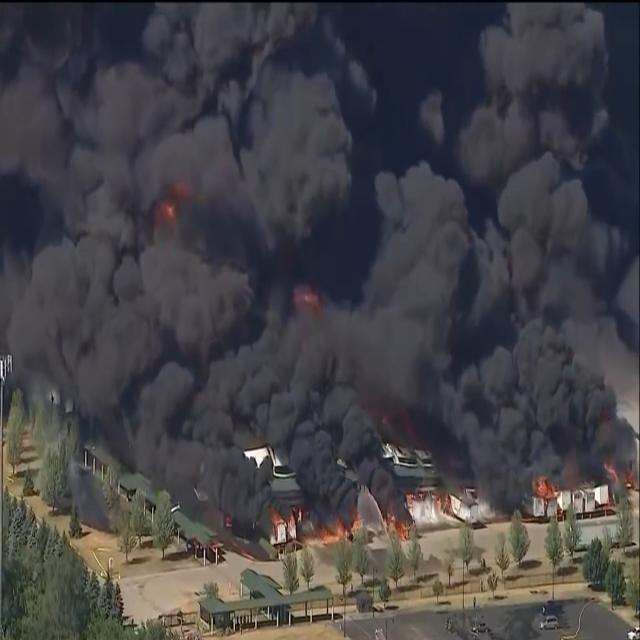Fire: (404, 484, 454, 520), (321, 515, 364, 544), (529, 474, 561, 501), (294, 288, 324, 316), (268, 511, 298, 536), (390, 519, 412, 542)
Smoke: (142, 167, 640, 528), (0, 0, 345, 361), (433, 0, 637, 386)
